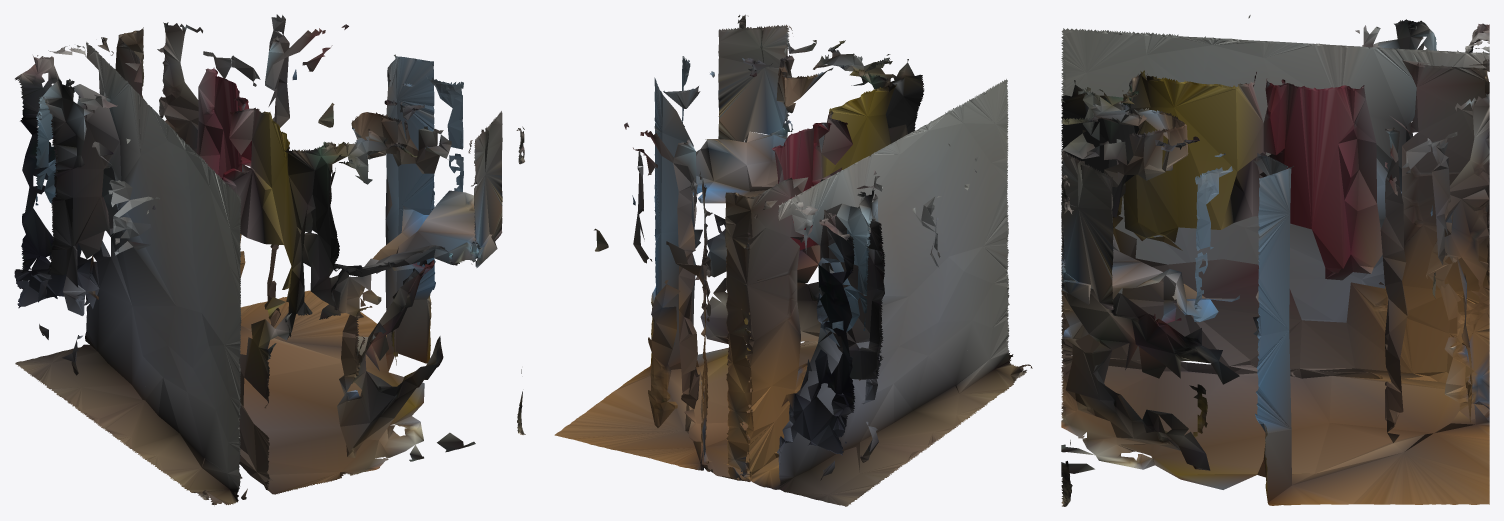
The model's file is coarse.glb.
3 renders of one model, left to right at view 1: azimuth 30°, elevation 25°; view 2: azimuth 150°, elevation 25°; view 3: azimuth 270°, elevation 25°, orthographic. The views are drawn at different scales.
Bounding box in the file's own units: 1.61 × 1.53 × 1.78.
